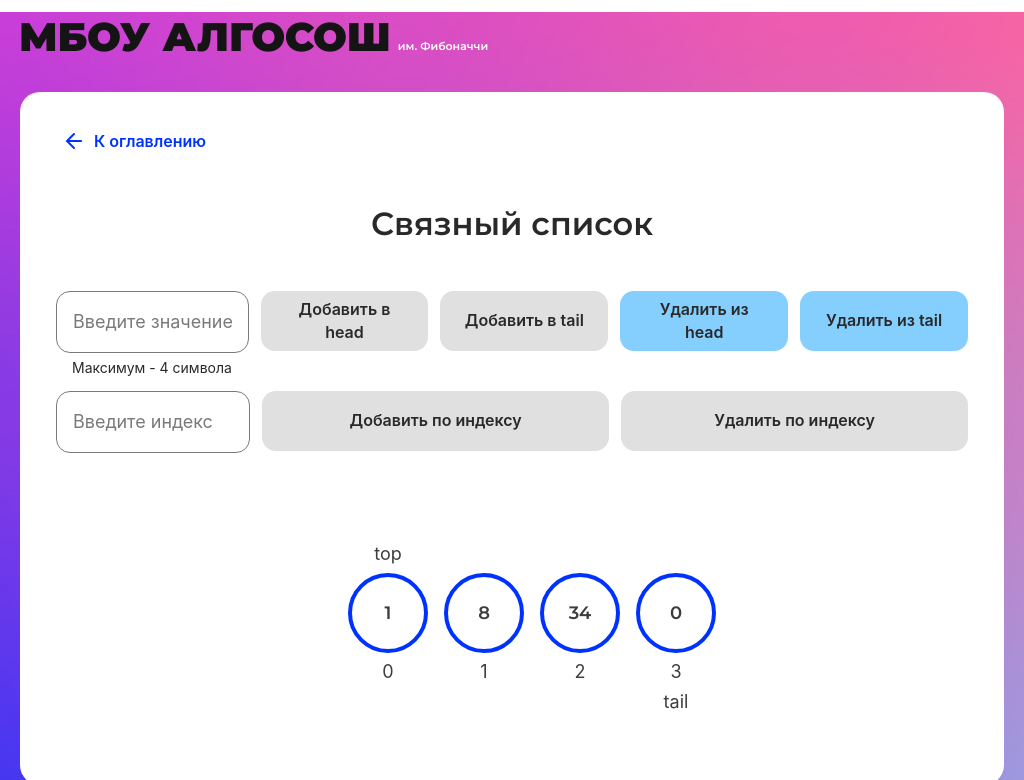
it: list tests › correctness of adding an element by index
Type "44" into the field with test id "list-input-value" at point(153, 322), box [56, 291, 249, 353]
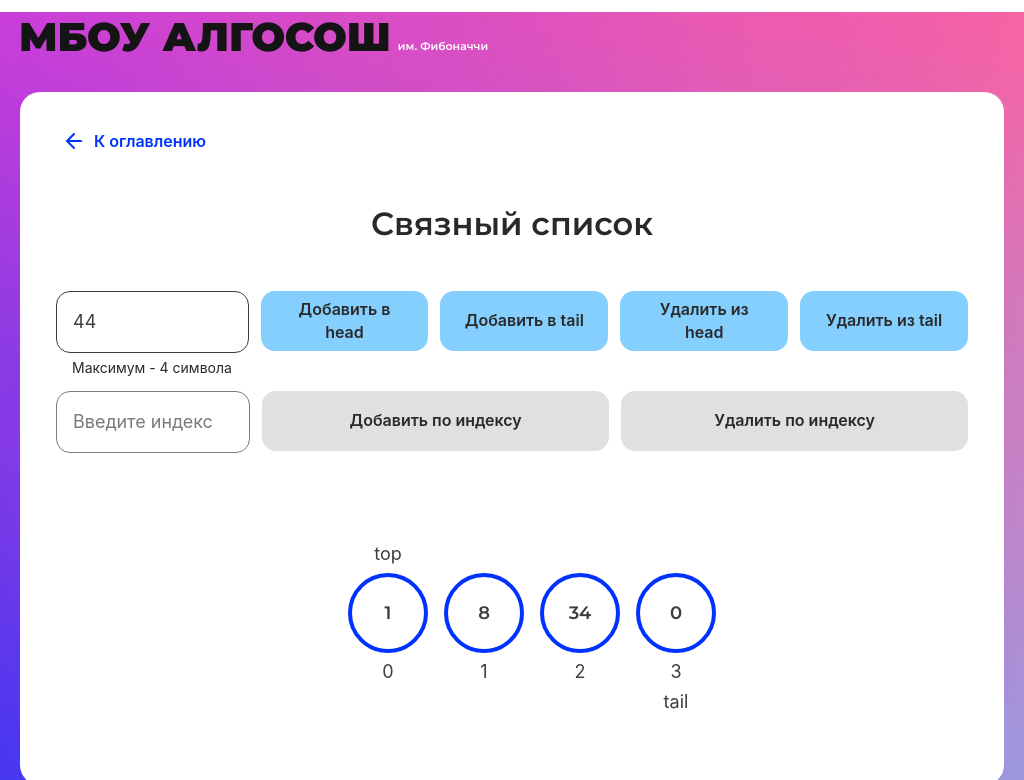
Type "2" into the field with test id "list-input-index" at point(153, 422), box [56, 391, 250, 453]
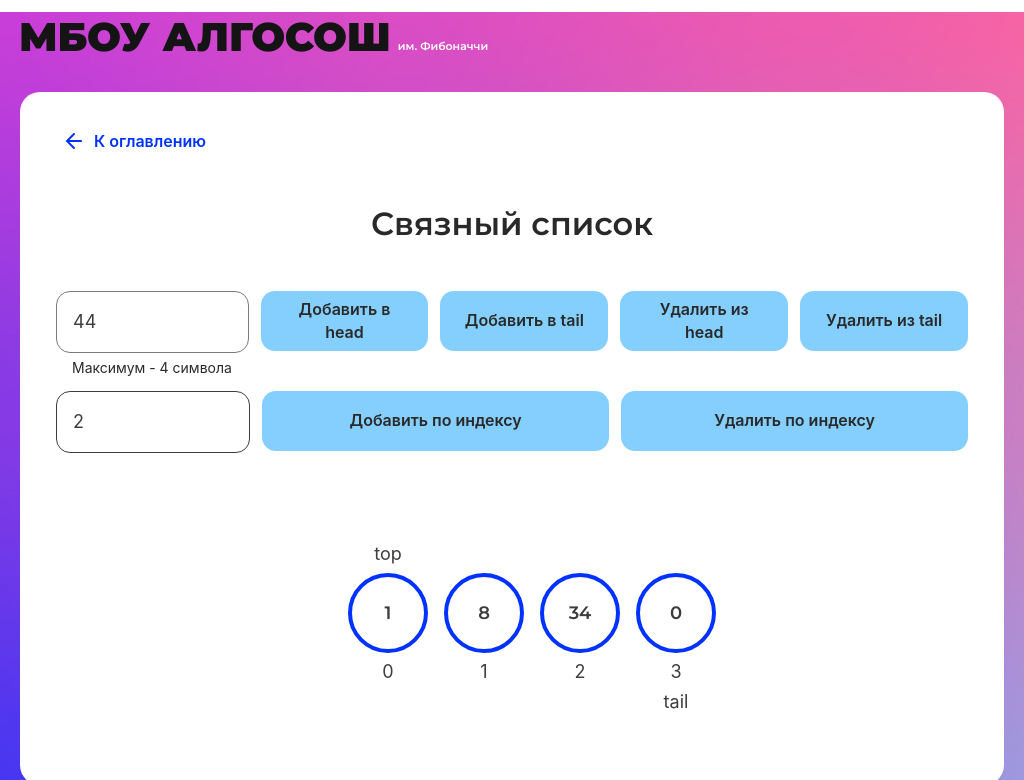
Expected: the element with test id "add-by-index-btn" is enabled
Click the button with test id "add-by-index-btn" at point(436, 421), box [262, 391, 609, 451]
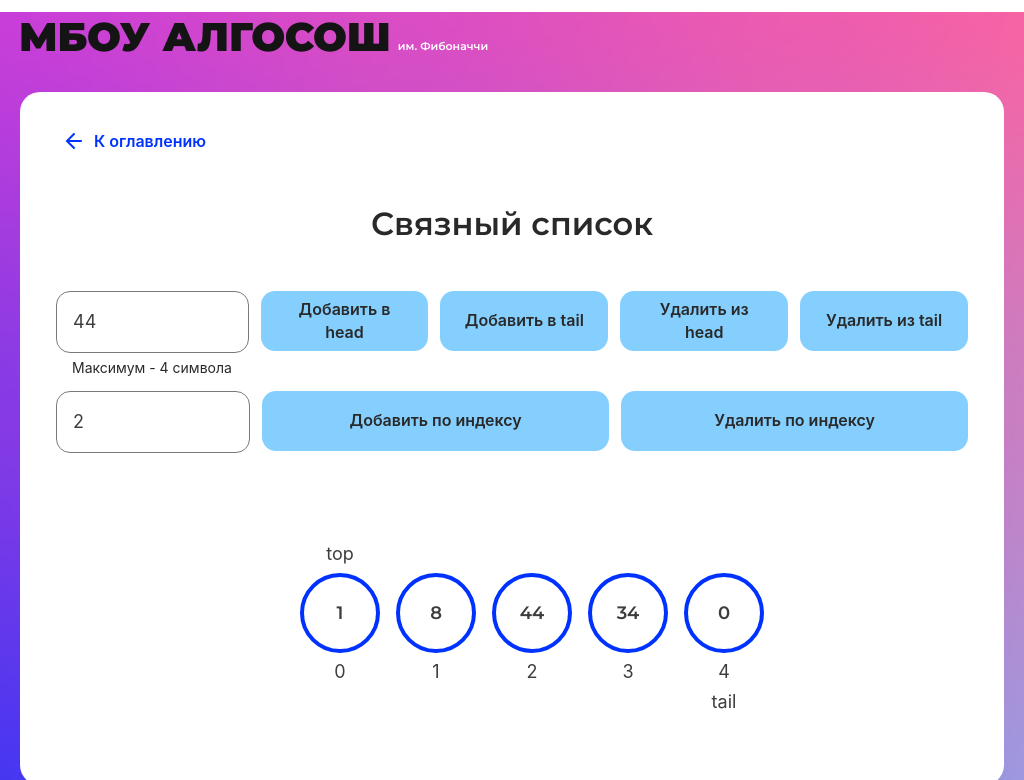
Expected: the element with test id "circle" reads "1", [300, 573, 380, 653]
Result: the element with test id "circle" reads "44" at [492, 573, 572, 653]
